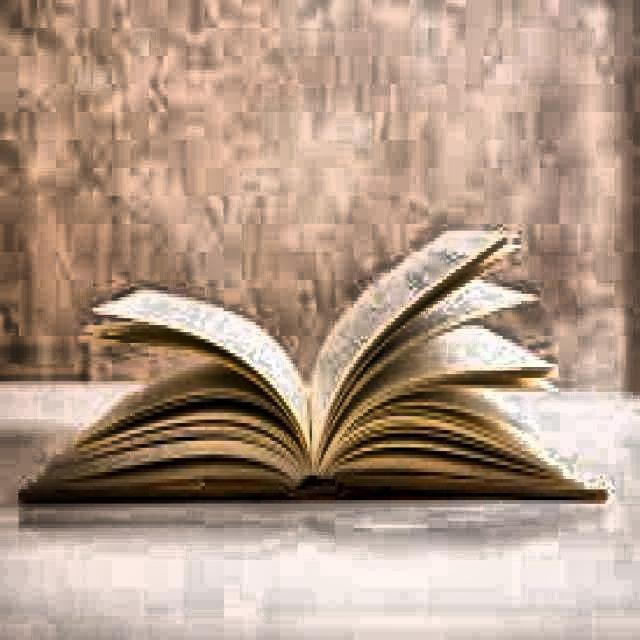Paper: (16, 220, 605, 507), (312, 220, 514, 483), (79, 283, 310, 490)
